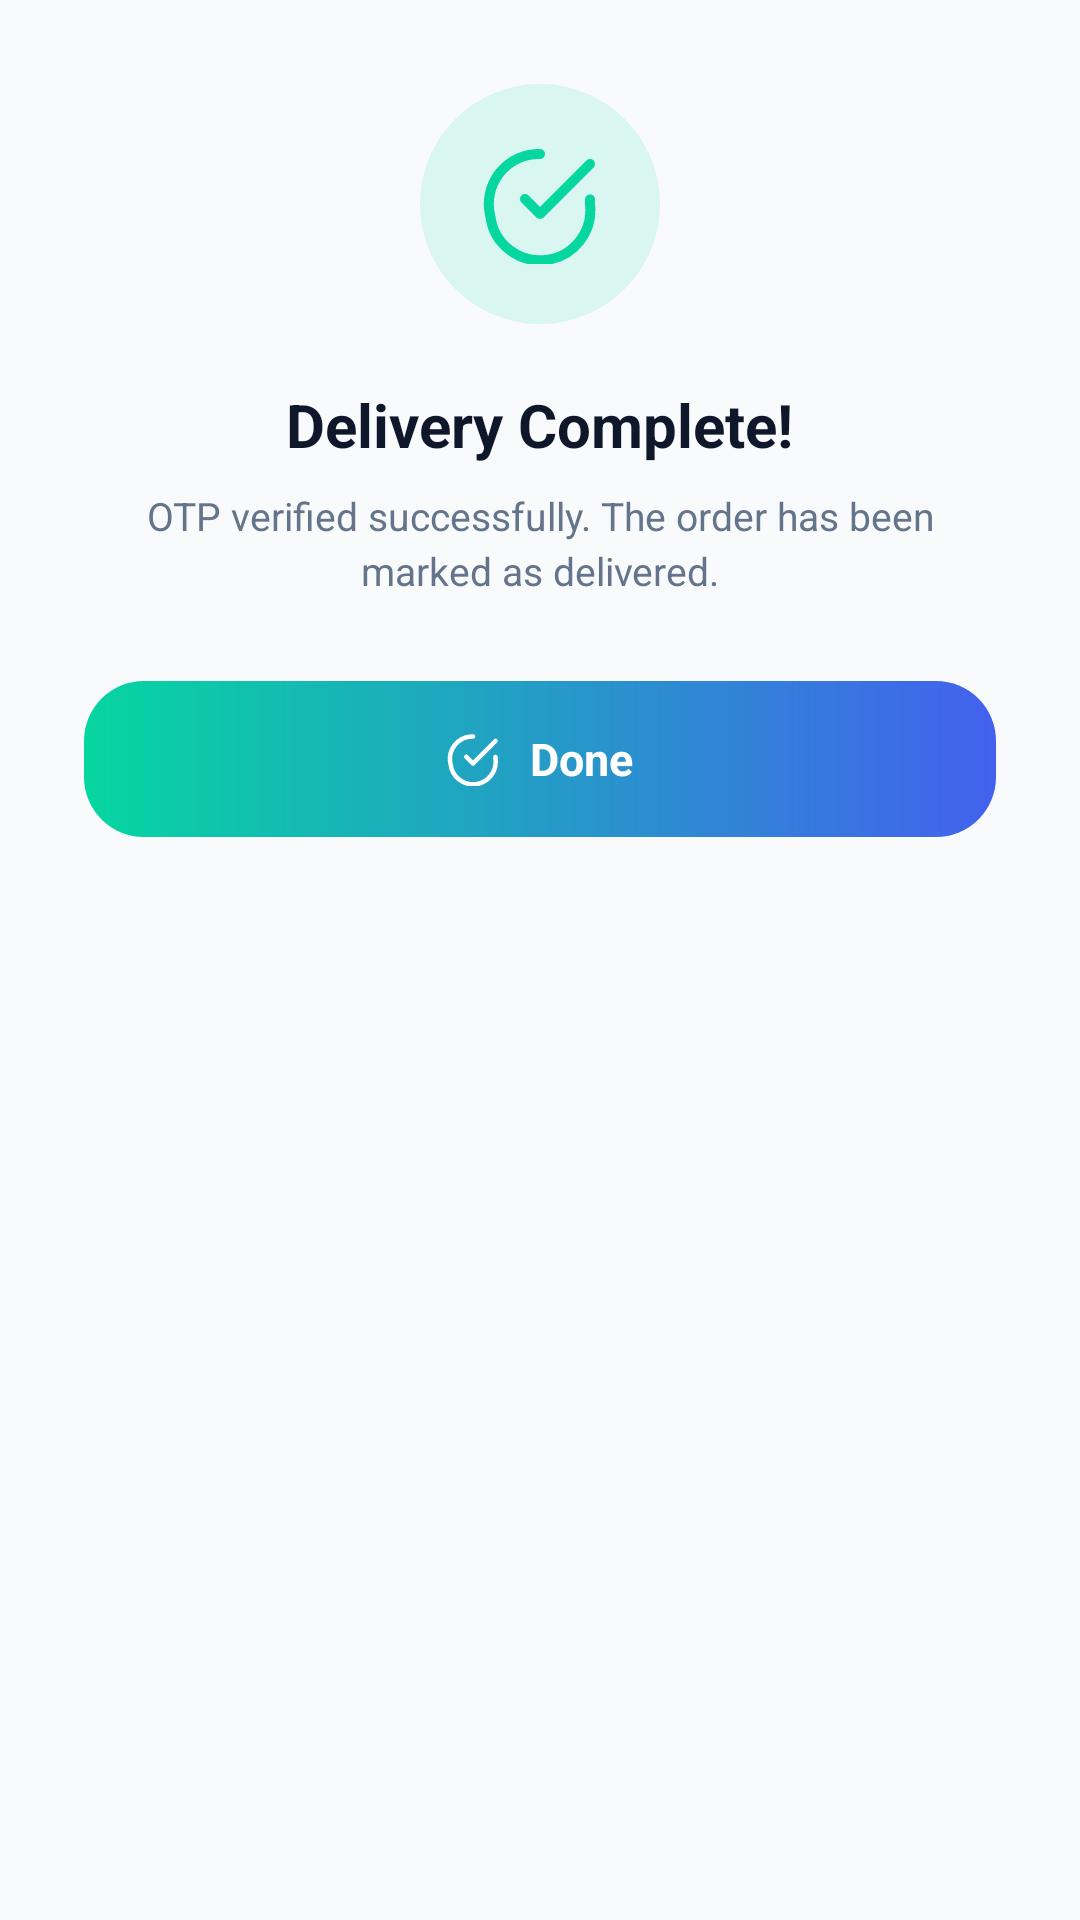

Where icons sit on this 1080w x 1920h app screen, as detection(x1, y1, x2, y2):
check circle: detection(483, 149, 596, 264), detection(447, 734, 498, 786)
